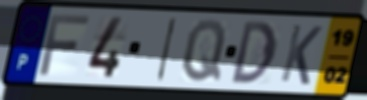4: (85, 15, 125, 80)
D: (230, 19, 279, 86)
F: (36, 13, 92, 78)
I: (153, 15, 180, 83)
K: (277, 22, 325, 87)
Q: (179, 18, 228, 85)
